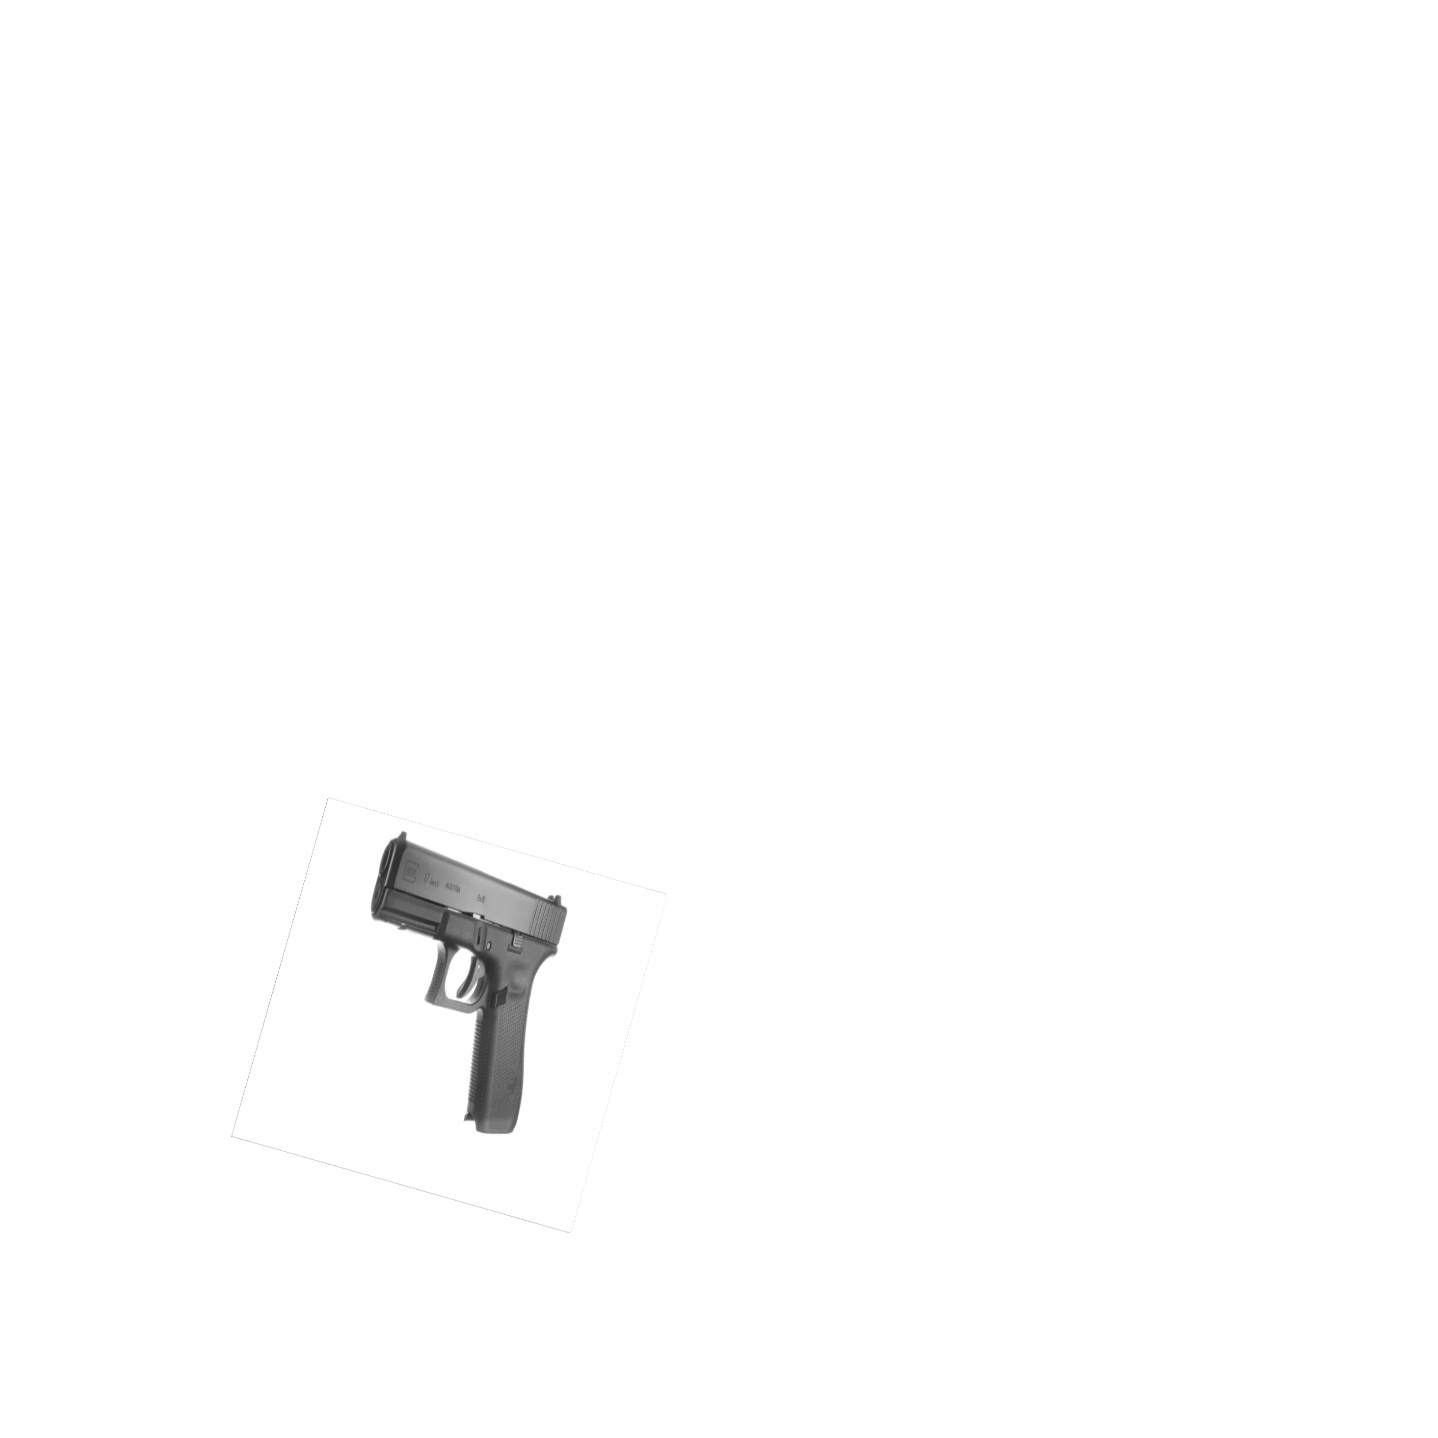gun: (359, 834, 574, 1136)
